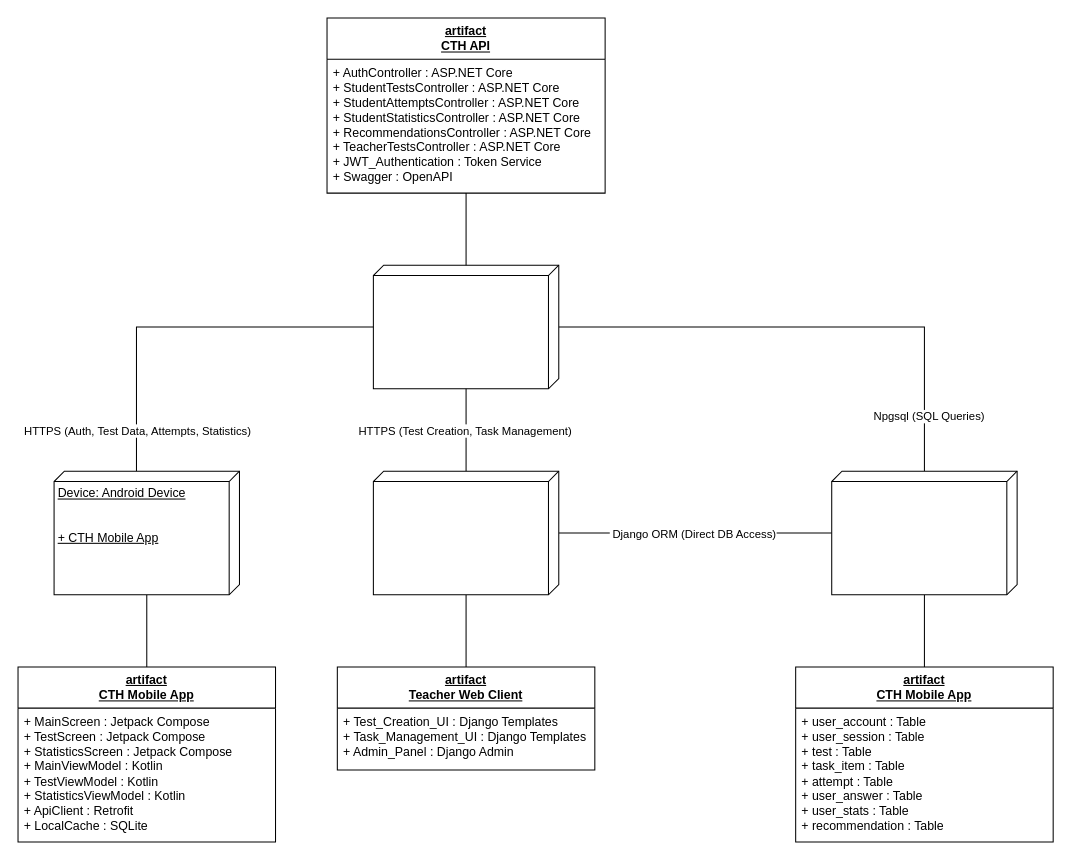
Image size: 1071x863. Some labels were removed from this diagram. The box of each missing label's shape, as (x1, y1, x2, y2) in pixels:
Device: API Server + CTH API: (372, 264, 559, 389)
Device: Database Server + PostgreSQL Database: (831, 470, 1017, 595)
Device: Web Server + Teacher Web Client: (372, 470, 559, 595)
